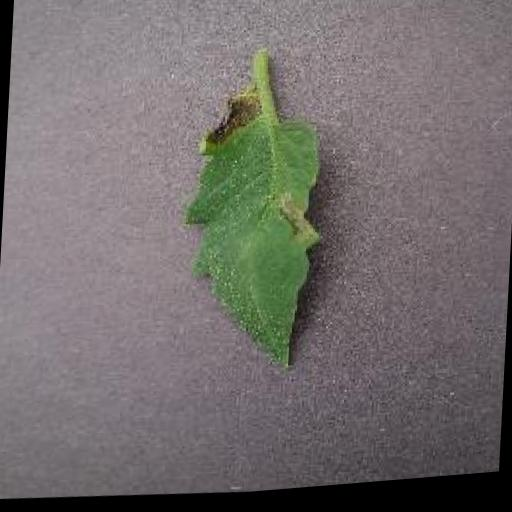Late Blight: (170, 82, 331, 386)
